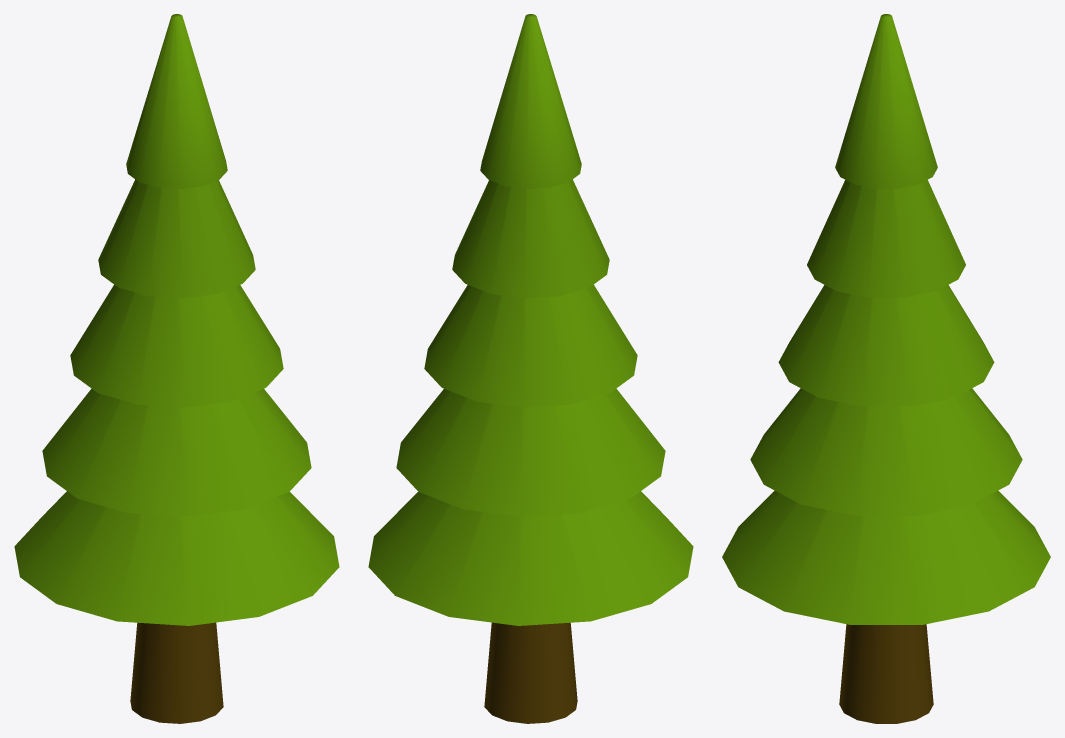
The model's file is Big_Tree2.fbx.
3 views of the same model, side by side, from view 1: azimuth 30°, elevation 25°; view 2: azimuth 150°, elevation 25°; view 3: azimuth 270°, elevation 25° (orthographic).
Parts seen in each view (by area): view 1: Big_Tree.002; view 2: Big_Tree.002; view 3: Big_Tree.002.
Boxes of the visible parts, bbox=[...] form: Big_Tree.002: bbox=[14, 14, 339, 723]; Big_Tree.002: bbox=[368, 14, 693, 723]; Big_Tree.002: bbox=[722, 14, 1050, 723].
Bounding box in the file's own units: 239 × 567 × 246.
